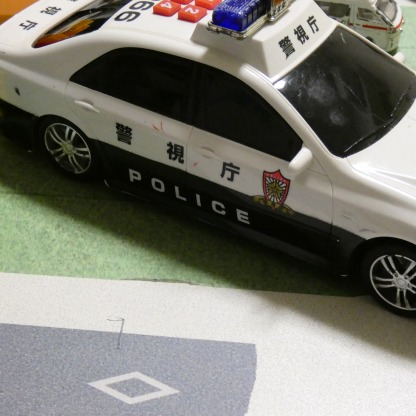car: (0, 0, 415, 319), (307, 0, 402, 51)
